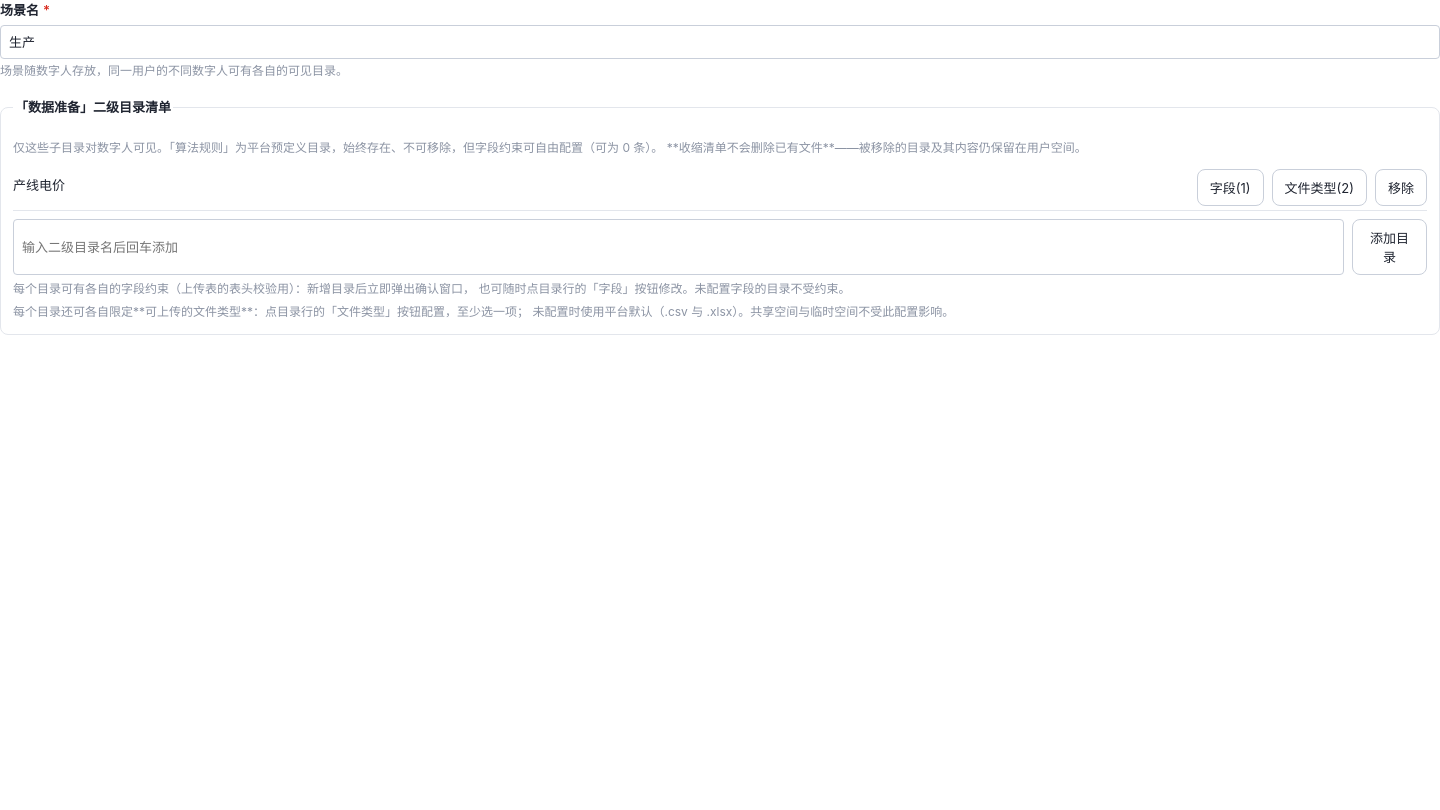
Test: ScenarioEditor › 目录行显示字段数，且已有约束打开时可回显
Click the button with test id "field-产线电价" at (1230, 188), box [1197,169,1264,206]
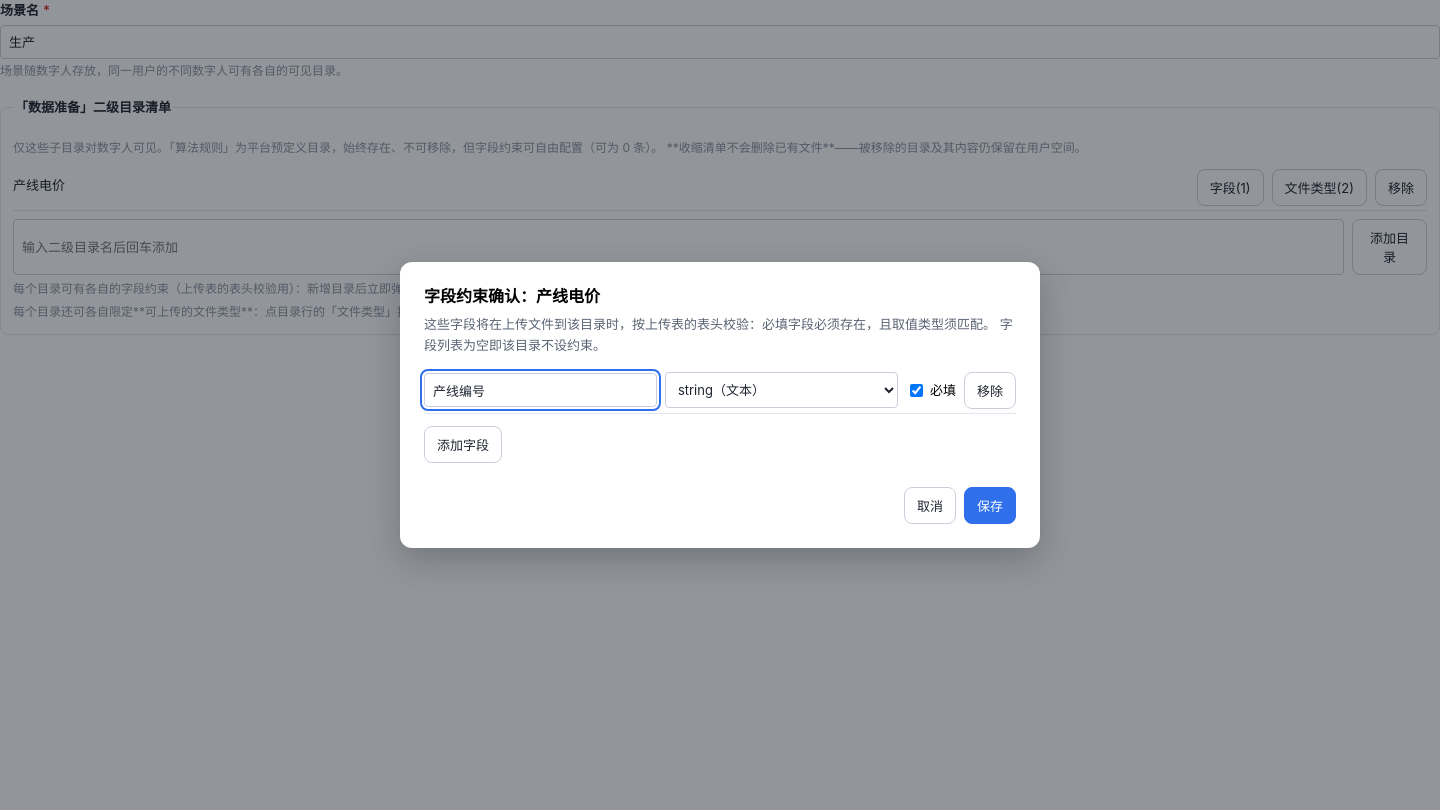
expect the field holds "产线编号": met, box [424,373,657,407]
